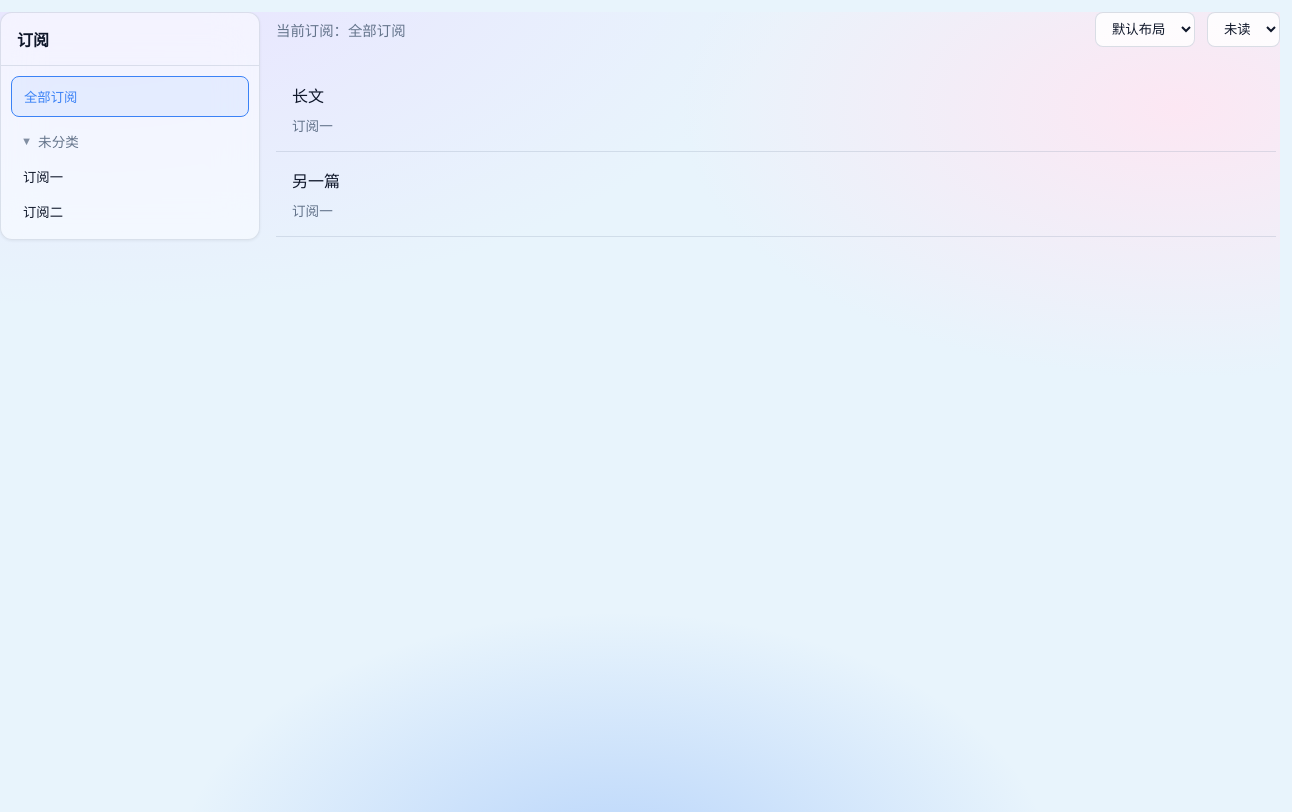
Test: 文章详情标题不放在正文滚动容器内
Step 1. Click the button "长文 订阅一" → (308, 96), box [276,67,1276,151]
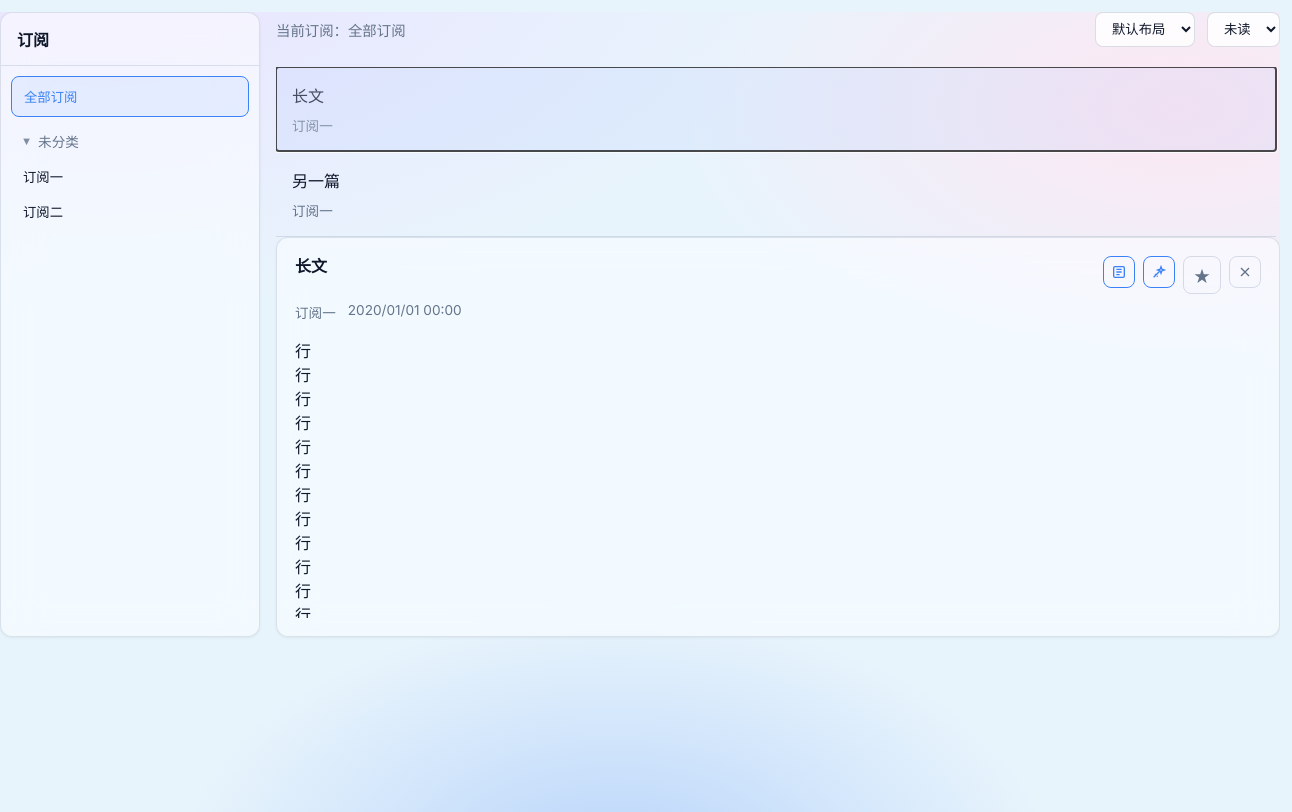
Expected: the element with class "article-detail-scroll" is shown, [295,302,462,625]
Expected: the link with class "article-detail-title" is shown, [295,256,327,278]
